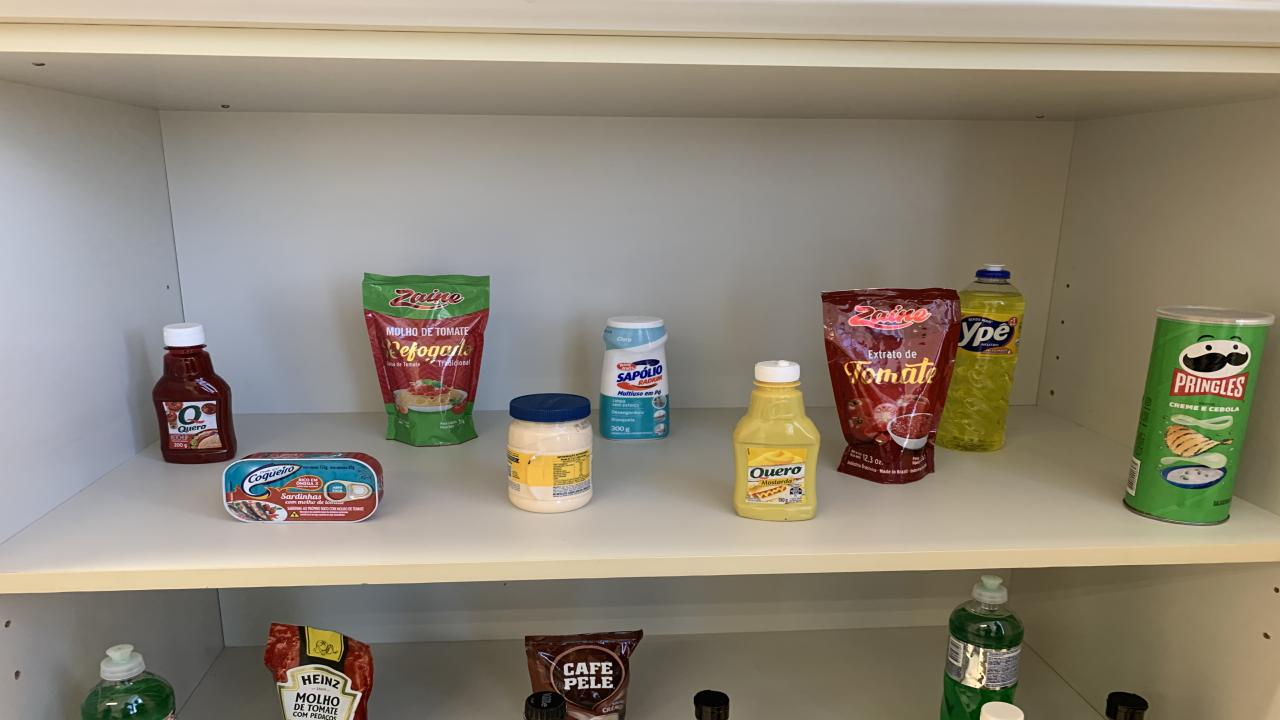Cleaner-Cleanup_Items: (600, 317, 670, 441)
Coffee-Pantry_Items: (525, 630, 642, 720)
Detergent-Cleanup_Items: (938, 264, 1025, 452), (940, 576, 1025, 720), (82, 645, 175, 720)
English_Sauce-Pantry_Items: (1105, 692, 1150, 720), (692, 690, 730, 720)
Ketchup-Pantry_Items: (152, 322, 238, 463)
Mayonnaise-Pantry_Items: (508, 394, 592, 512)
Mustard-Pantry_Items: (732, 360, 820, 521)
Pringles-Snacks: (1122, 308, 1270, 525)
Soda-Drinks: (525, 692, 568, 720)
Tomato_Sauce-Pantry_Items: (822, 289, 960, 484), (362, 274, 490, 446), (265, 624, 372, 720)
Tuna_Can-Pantry_Items: (222, 452, 382, 523)
